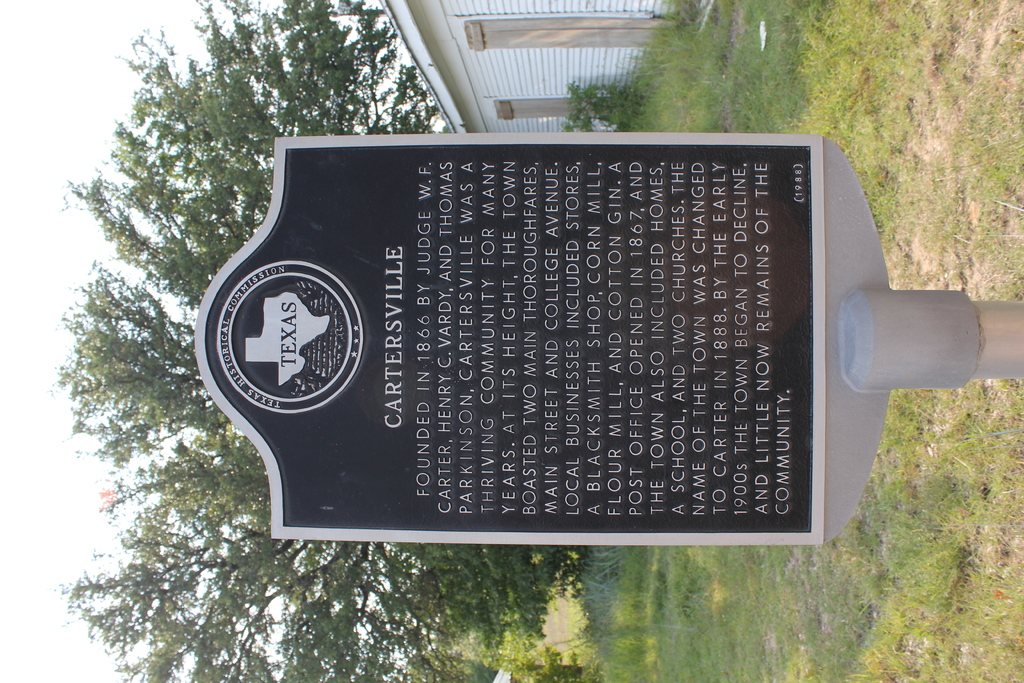Tree: (48, 0, 588, 682)
